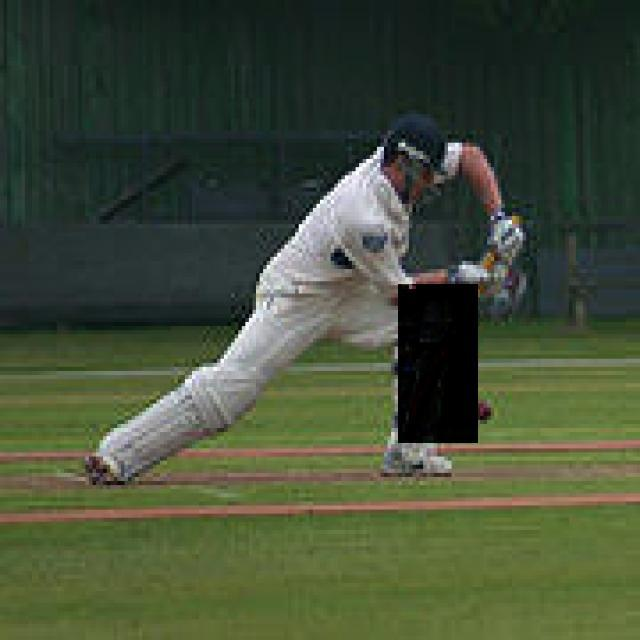bat: (398, 283, 480, 444)
